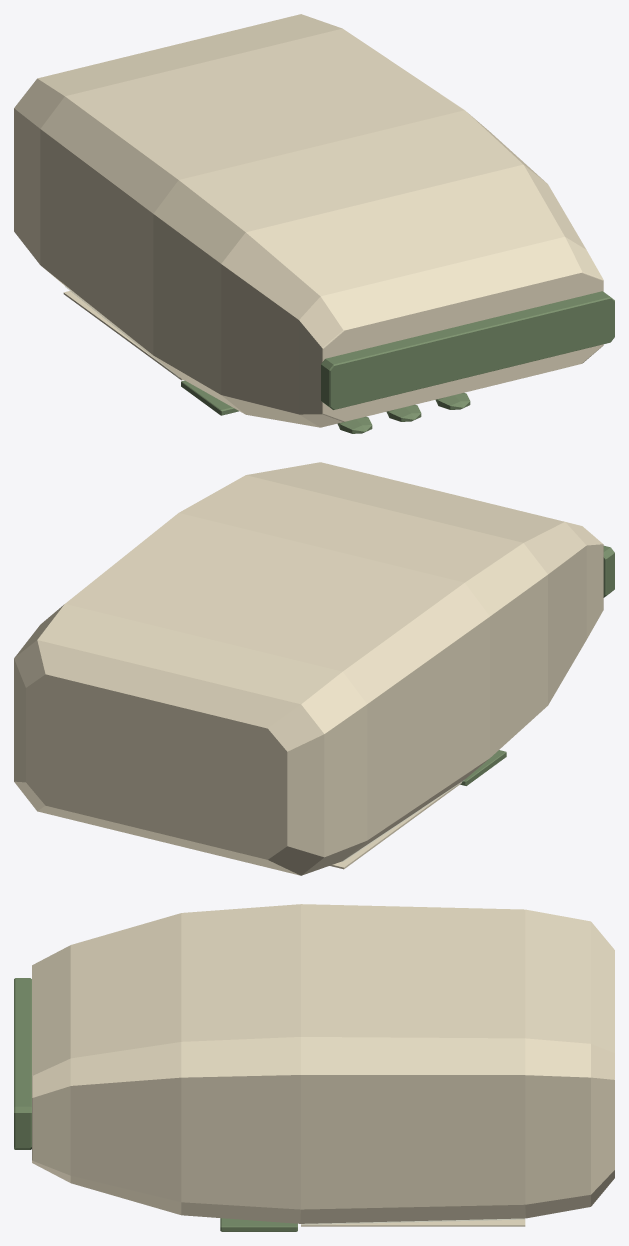
The model's file is dried_peas.glb.
3 views of the same model, one above another, from view 1: azimuth 30°, elevation 25°; view 2: azimuth 150°, elevation 25°; view 3: azimuth 270°, elevation 25° (orthographic). The views are drawn at different scales.
Visible parts, largest first — view 1: dried_peas; view 2: dried_peas; view 3: dried_peas.
Boxes of the visible parts, x1,y1,x2,y2 form: dried_peas: [14, 14, 614, 433]; dried_peas: [14, 462, 614, 875]; dried_peas: [14, 904, 614, 1231].
Size of the model in its own units: 0.1236 by 0.0746 by 0.201.
